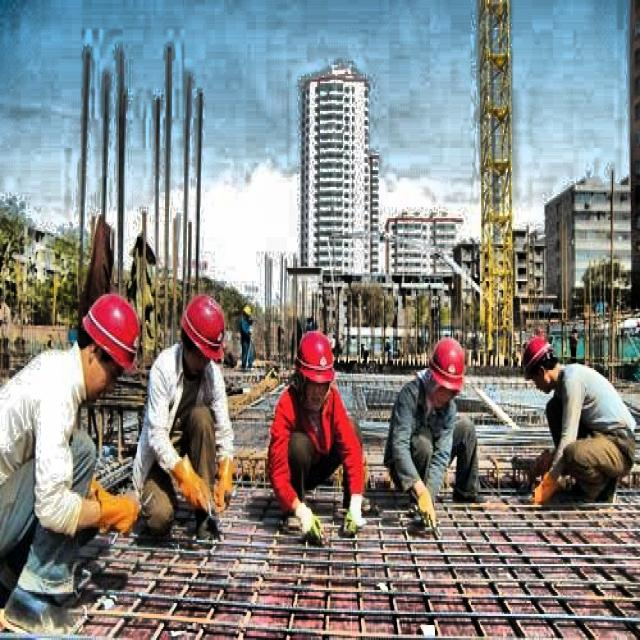helmet: (72, 287, 147, 394), (178, 287, 228, 377), (293, 324, 339, 405), (425, 333, 471, 409), (520, 329, 558, 388)
